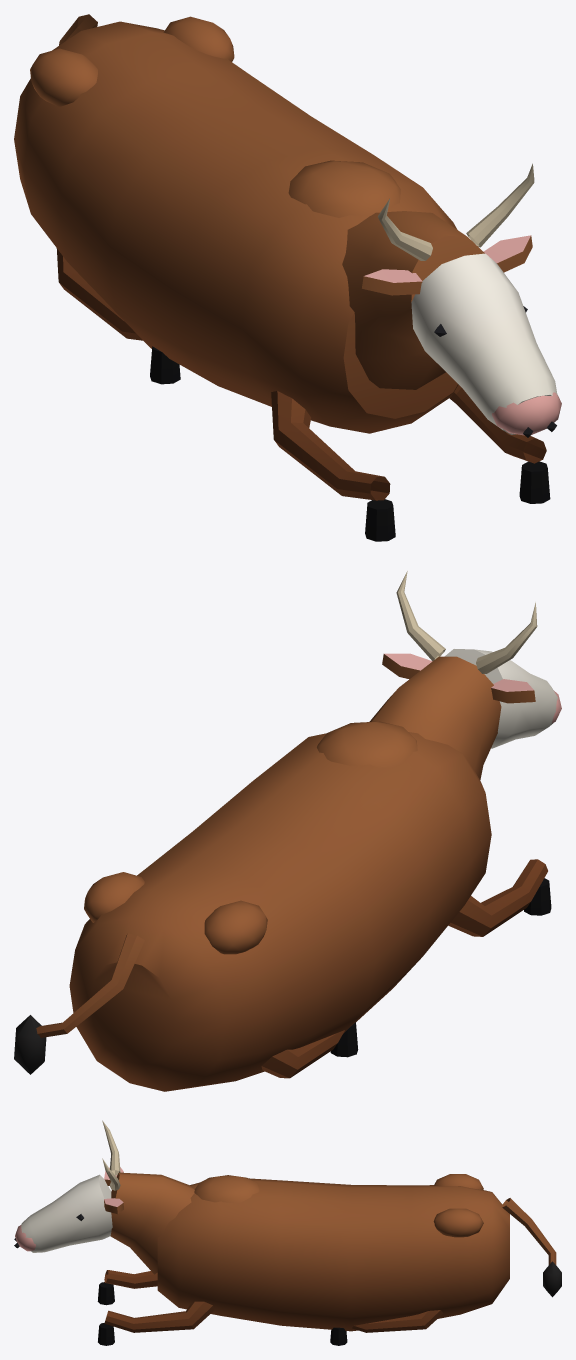
Rendered from Cow_Lying.fbx.
3 renders of one model, top to bottom at view 1: azimuth 30°, elevation 25°; view 2: azimuth 150°, elevation 25°; view 3: azimuth 270°, elevation 25°, orthographic. The views are drawn at different scales.
Parts seen in each view (by area): view 1: Cow_Lying_LOD0; view 2: Cow_Lying_LOD0; view 3: Cow_Lying_LOD0.
Part boxes in pixels (left/top/right/bottom): Cow_Lying_LOD0: left=14, top=14, right=561, bottom=541; Cow_Lying_LOD0: left=14, top=571, right=561, bottom=1091; Cow_Lying_LOD0: left=14, top=1120, right=561, bottom=1345.
Size of what is drawn, in the model's own units: 0.8288 by 1.09 by 2.96.
1 material, 1 textured.
